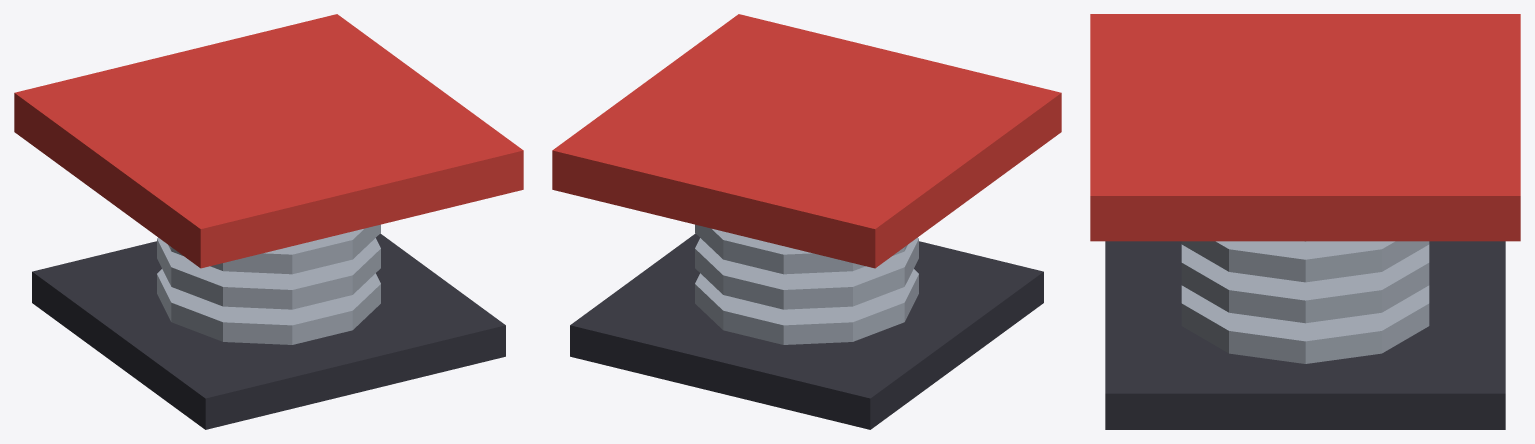
File: spring.glb
3 renders of one model, left to right at view 1: azimuth 30°, elevation 25°; view 2: azimuth 150°, elevation 25°; view 3: azimuth 270°, elevation 25°, orthographic. The views are drawn at different scales.
Visible parts, largest first — view 1: Model; view 2: Model; view 3: Model.
Boxes of the visible parts, left/top/right/bottom form: Model: left=14, top=14, right=523, bottom=429; Model: left=552, top=14, right=1061, bottom=429; Model: left=1090, top=14, right=1520, bottom=429.
Size of the model in its own units: 0.86 by 0.53 by 0.86.
Materials: 1 (1 with a texture image).
